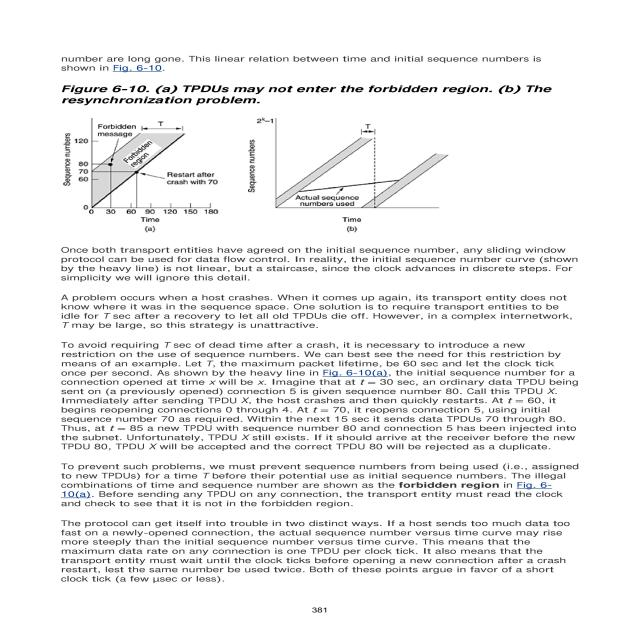diagram: (24, 79, 586, 237)
